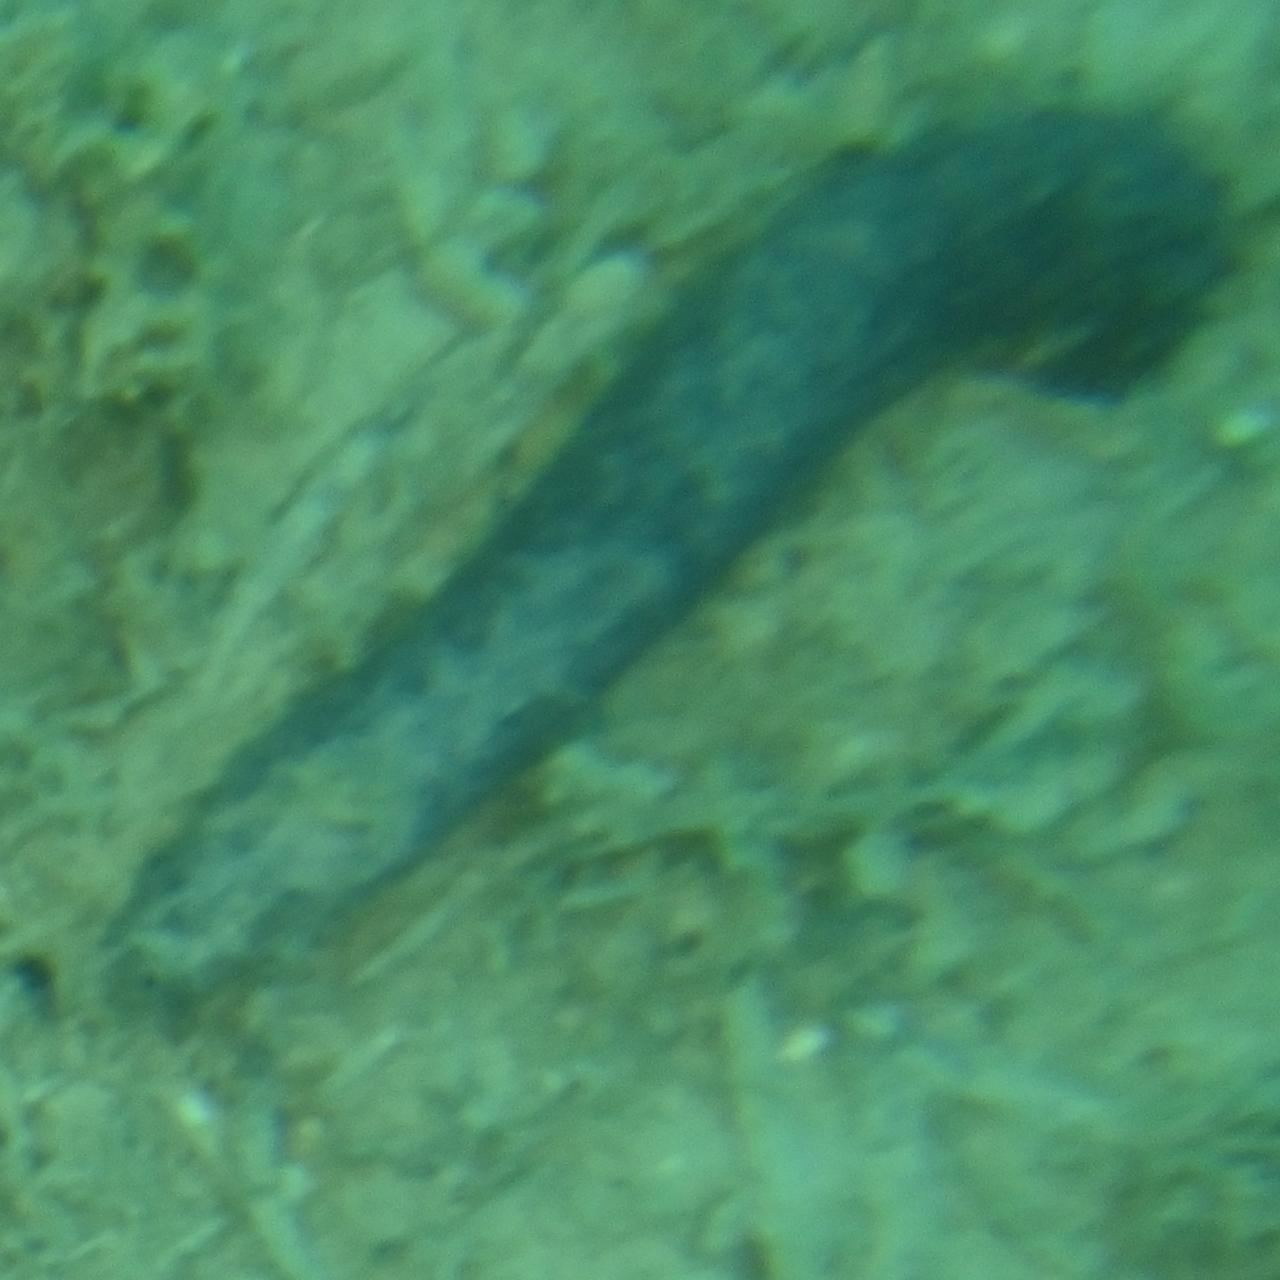Holothuria tubulosa: (89, 95, 1241, 1035)
